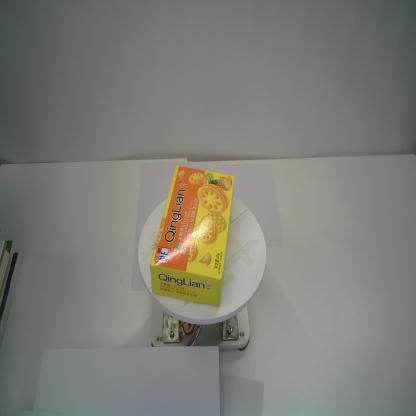Dessert: (150, 164, 235, 308)
